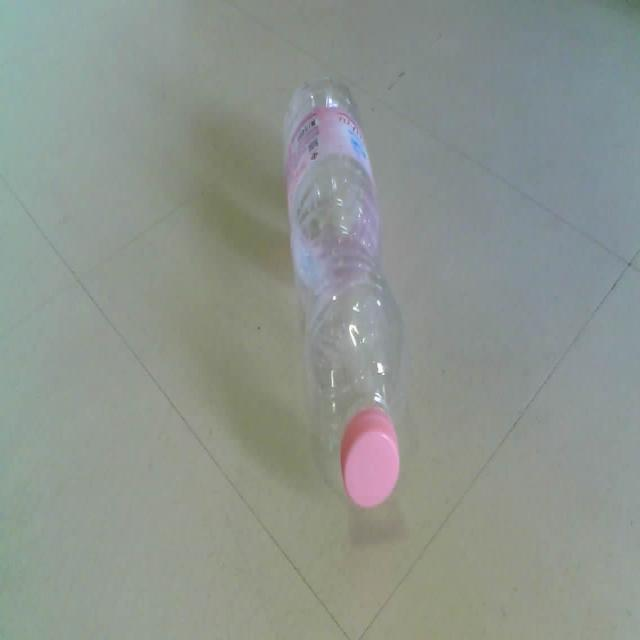empty: (284, 78, 404, 507)
